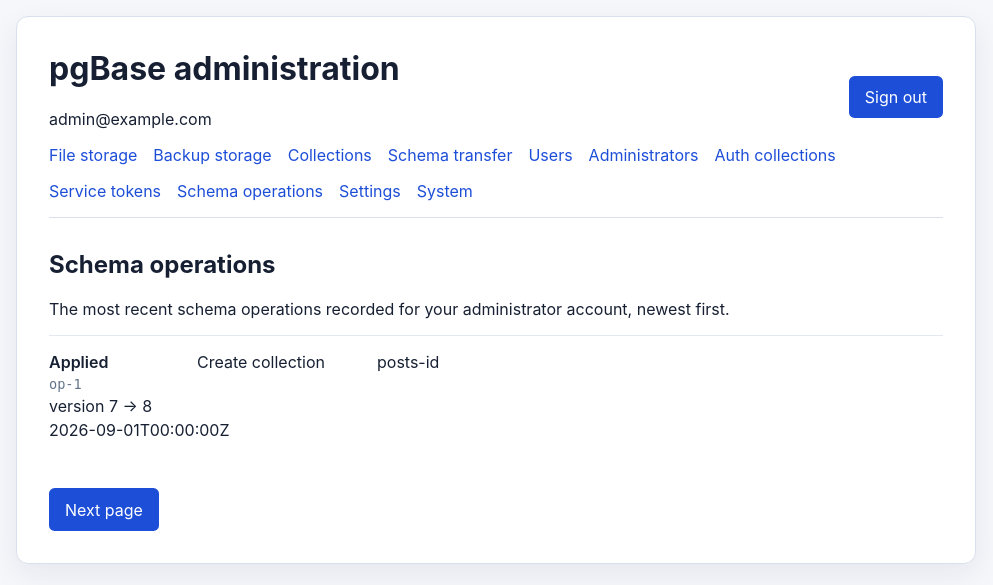
Test case: schema operations page › reports a cursor another owner cannot reuse without discarding the history already read
Expected: the text "op-1" is shown, x1=49 y1=376 x2=82 y2=392
Click the button "Next page".
click(104, 510)  # box x1=49 y1=488 x2=159 y2=531
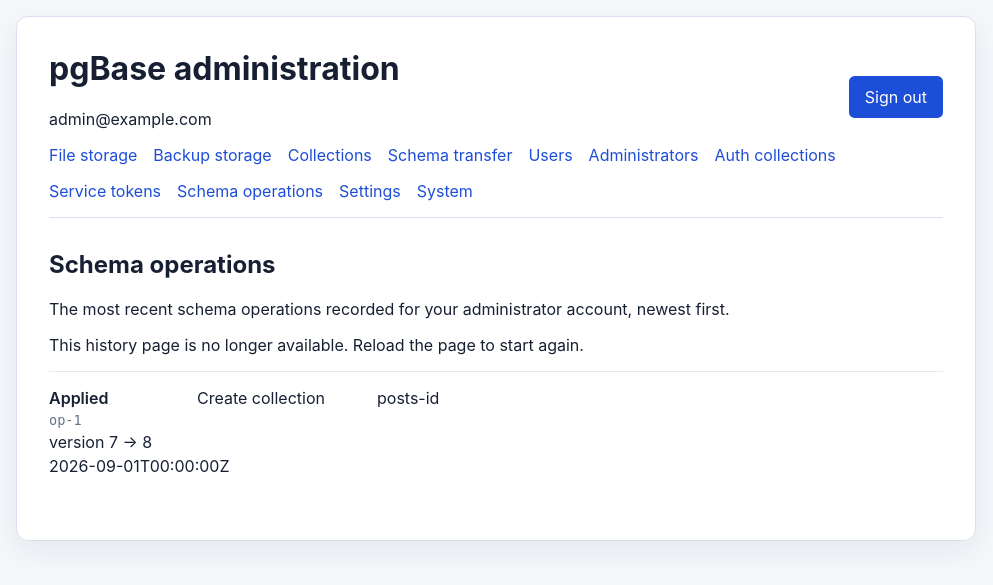
Expected: the text "op-1" is shown, x1=49 y1=412 x2=82 y2=428
Now the message shows "This history page is no longer available.", box x1=49 y1=335 x2=584 y2=355
Now the button "Next page" is gone
